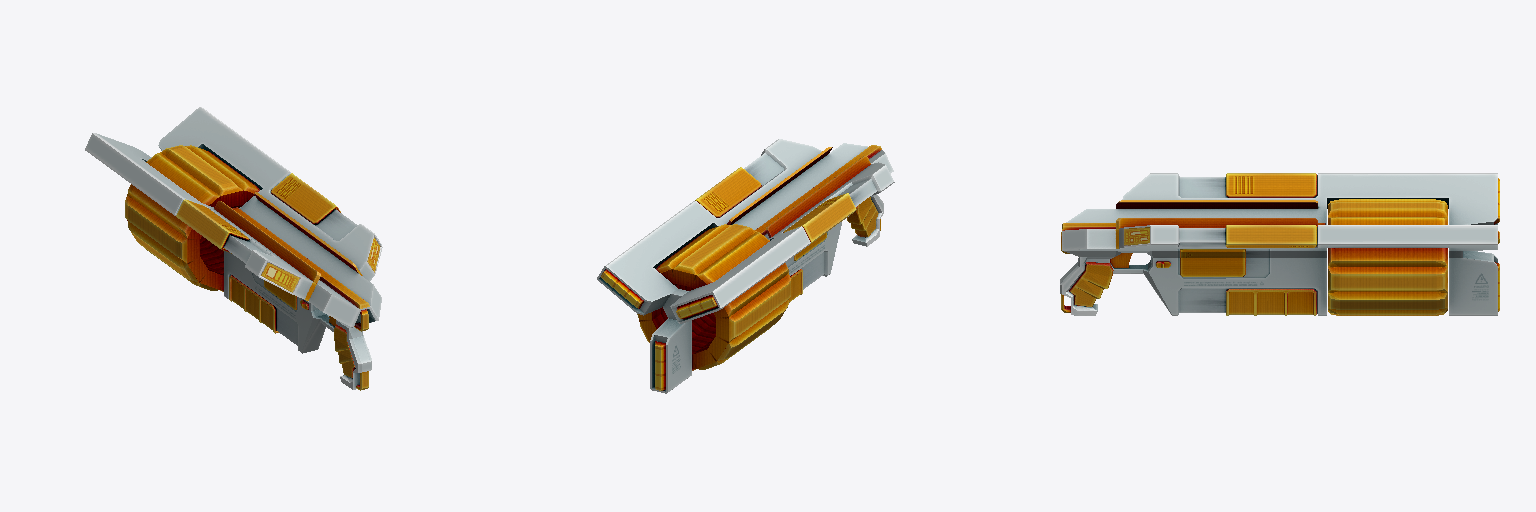
3 views of the same model, side by side, from view 1: azimuth 30°, elevation 25°; view 2: azimuth 150°, elevation 25°; view 3: azimuth 270°, elevation 25° (orthographic).
Visible parts, largest first — view 1: bGUN02_body_geomU3D2, bGUN02_ammo_geomU3D1; view 2: bGUN02_body_geomU3D2, bGUN02_ammo_geomU3D1; view 3: bGUN02_body_geomU3D2, bGUN02_ammo_geomU3D1.
Boxes of the visible parts, box(x1,y1,x2,y2) form: bGUN02_body_geomU3D2: box(85, 107, 382, 390); bGUN02_ammo_geomU3D1: box(125, 145, 259, 291); bGUN02_body_geomU3D2: box(597, 139, 894, 393); bGUN02_ammo_geomU3D1: box(637, 224, 790, 370); bGUN02_body_geomU3D2: box(1060, 173, 1499, 315); bGUN02_ammo_geomU3D1: box(1328, 199, 1447, 315).
Size of the model in its own units: 0.1048 by 0.0914 by 0.3221.
Materials: 1 (1 with a texture image).